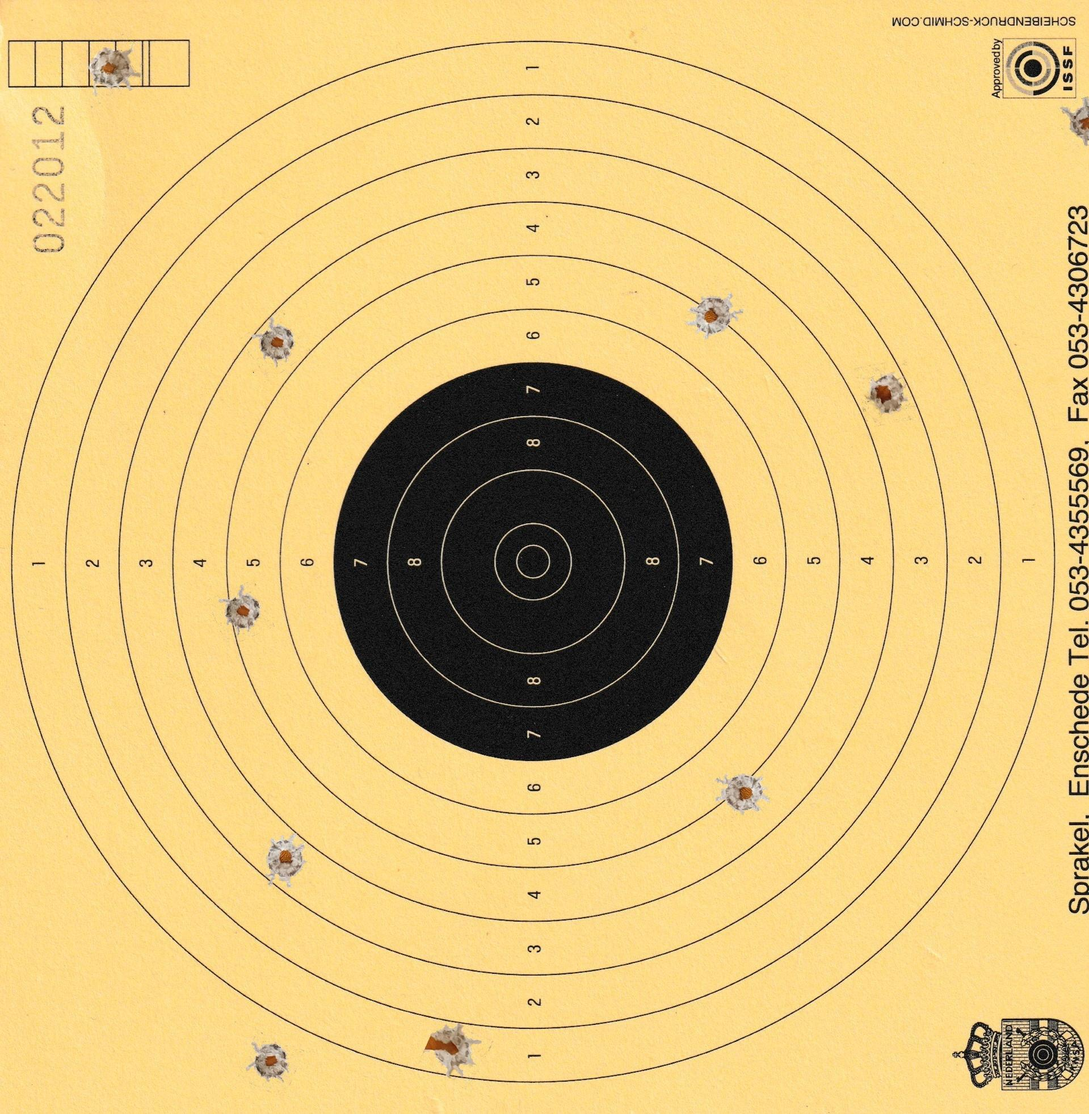hole: (423, 1021, 483, 1078), (85, 42, 143, 96), (260, 830, 308, 889), (244, 1035, 296, 1088), (249, 315, 300, 368), (689, 292, 743, 338), (713, 773, 768, 817), (217, 585, 261, 638), (865, 370, 909, 417), (1058, 90, 1089, 148)
